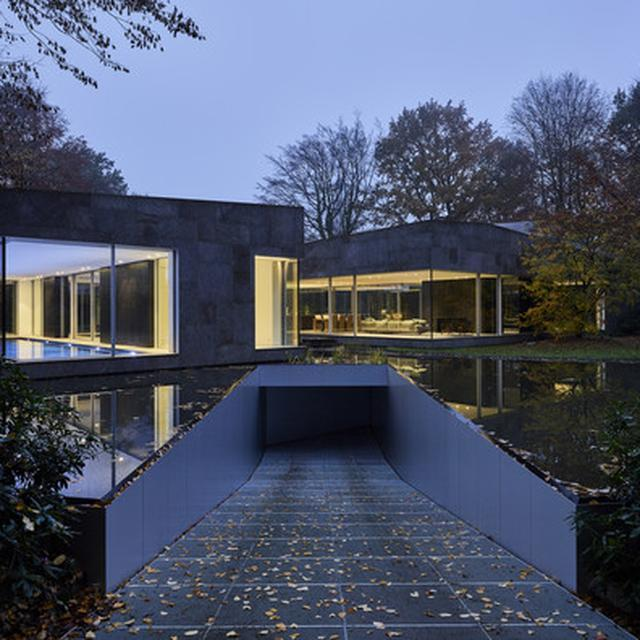building: (0, 177, 305, 373), (308, 204, 628, 349)
